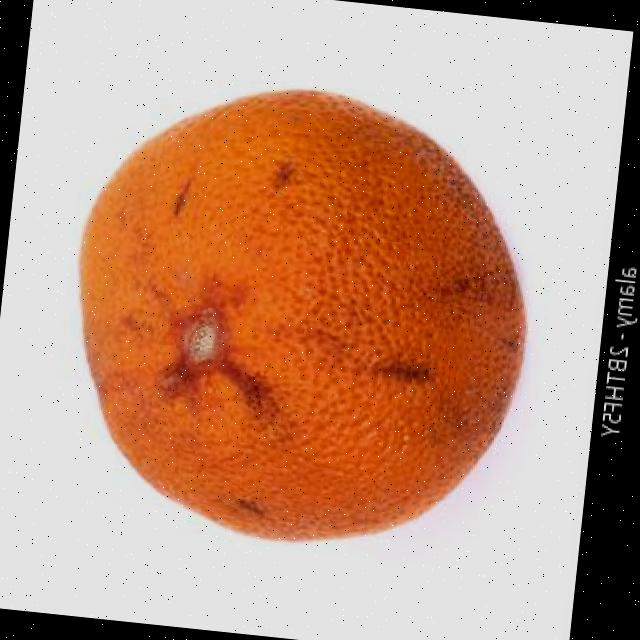overripe: (39, 60, 554, 571)
